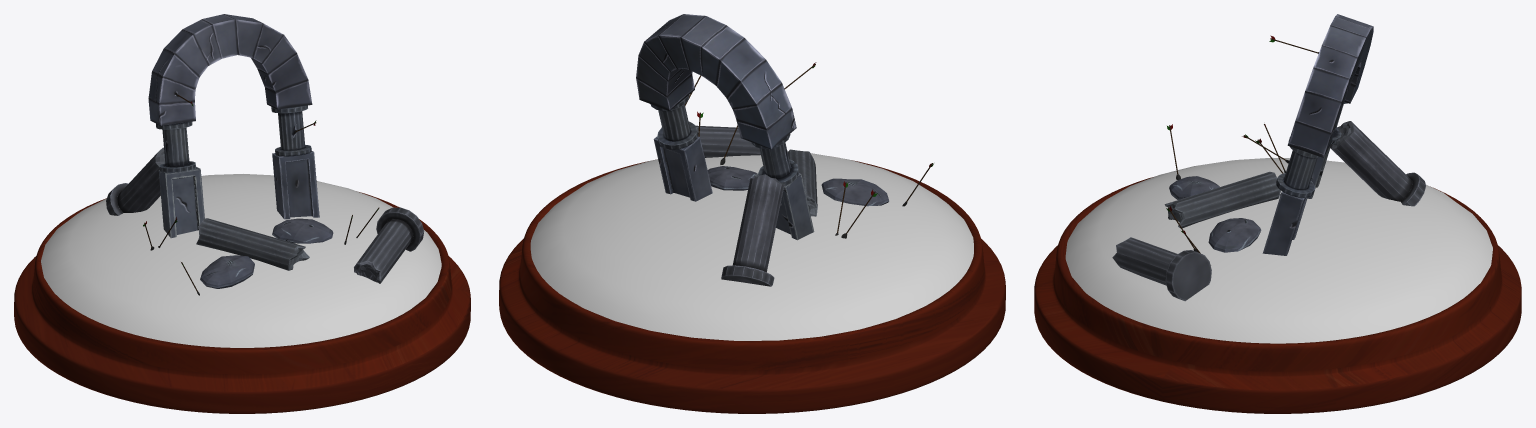
Rendered from model sand statue.gltf.
The picture shows the model from 3 angles, left to right: view 1: azimuth 30°, elevation 25°; view 2: azimuth 150°, elevation 25°; view 3: azimuth 270°, elevation 25°; orthographic projection. The views are drawn at different scales.
Parts seen in each view (by area): view 1: Sphere_0, Cylinder_1, Cube.009_2, Cylinder.018_15, Cylinder.019_16, Cube.010_5, Cube.011_6, Cylinder.017_14, Cylinder.007_4, Sphere.003_18, Cylinder.006_3, Sphere.002_17; view 2: Sphere_0, Cylinder_1, Cube.009_2, Cylinder.017_14, Cube.010_5, Cube.011_6, Cylinder.019_16, Cylinder.006_3, Sphere.003_18, Cylinder.007_4, Cylinder.018_15, Sphere.002_17; view 3: Sphere_0, Cylinder_1, Cube.009_2, Cylinder.019_16, Cylinder.017_14, Cylinder.018_15, Cube.010_5, Cylinder.006_3, Sphere.002_17, Sphere.003_18.
Part boxes in pixels (x1,y1,x2,y2): Sphere_0: [41, 174, 441, 347]; Cylinder_1: [14, 192, 470, 413]; Cube.009_2: [148, 14, 312, 125]; Cylinder.018_15: [196, 218, 309, 270]; Cylinder.019_16: [354, 207, 424, 283]; Cube.010_5: [272, 151, 319, 219]; Cube.011_6: [158, 166, 204, 238]; Cylinder.017_14: [106, 147, 165, 215]; Cylinder.007_4: [156, 121, 195, 172]; Sphere.003_18: [200, 255, 254, 288]; Cylinder.006_3: [271, 105, 311, 156]; Sphere.002_17: [272, 218, 333, 243]; Sphere_0: [530, 151, 973, 340]; Cylinder_1: [499, 159, 1005, 413]; Cube.009_2: [636, 14, 796, 149]; Cylinder.017_14: [721, 174, 784, 286]; Cube.010_5: [653, 136, 712, 201]; Cube.011_6: [755, 173, 814, 240]; Cylinder.019_16: [661, 125, 760, 157]; Cylinder.006_3: [650, 95, 697, 149]; Sphere.003_18: [821, 178, 888, 206]; Cylinder.007_4: [751, 134, 798, 186]; Cylinder.018_15: [787, 149, 817, 216]; Sphere.002_17: [707, 166, 757, 190]; Sphere_0: [1065, 157, 1492, 343]; Cylinder_1: [1034, 177, 1521, 413]; Cube.009_2: [1287, 14, 1373, 157]; Cylinder.019_16: [1112, 237, 1211, 301]; Cylinder.017_14: [1329, 121, 1425, 206]; Cylinder.018_15: [1164, 171, 1280, 228]; Cube.010_5: [1262, 191, 1307, 255]; Cylinder.006_3: [1276, 137, 1320, 197]; Sphere.002_17: [1208, 218, 1261, 252]; Sphere.003_18: [1169, 176, 1219, 199].
Size of the model in its own units: 5.54 by 3.7 by 5.54.
